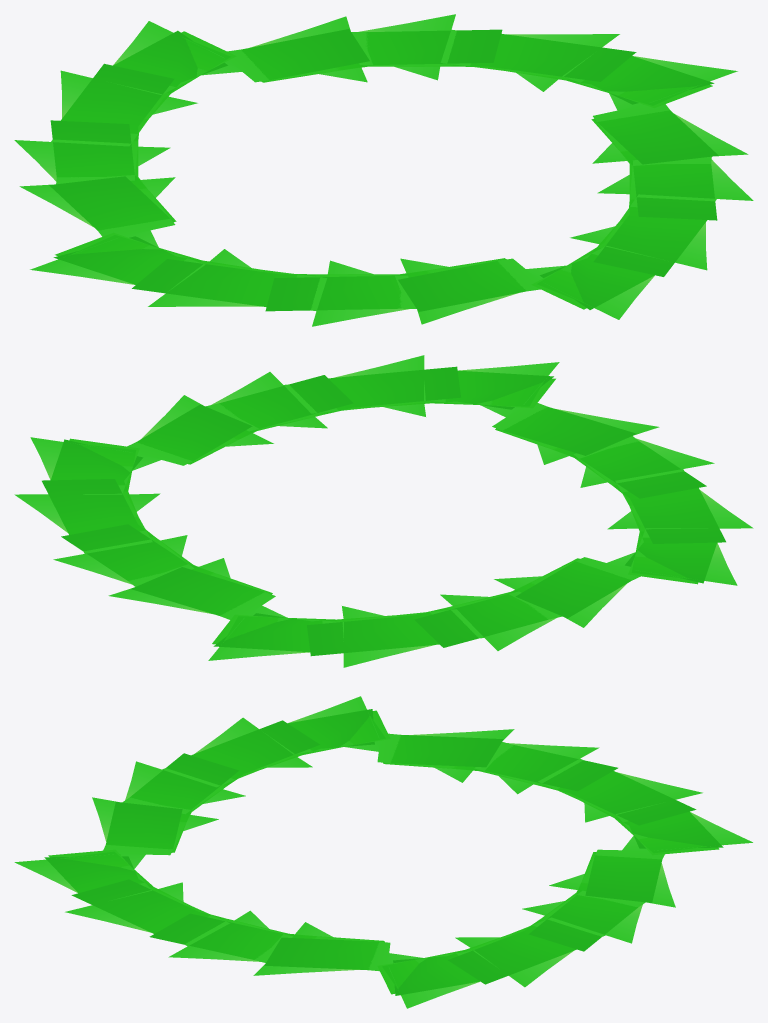
File: arrowAnimation06.fbx
3 renders of one model, top to bottom at view 1: azimuth 30°, elevation 25°; view 2: azimuth 150°, elevation 25°; view 3: azimuth 270°, elevation 25°, orthographic. The views are drawn at different scales.
Visible parts, largest first — view 1: frame5, frame6, frame4, frame7, frame3, frame2, frame1; view 2: frame5, frame6, frame4, frame7, frame3, frame2, frame1; view 3: frame5, frame6, frame4, frame7, frame3, frame2, frame1.
Boxes of the visible parts, <box> form: frame5: <box>60,33,707,306</box>; frame6: <box>50,29,717,311</box>; frame4: <box>19,16,748,324</box>; frame7: <box>49,29,718,311</box>; frame3: <box>14,14,753,326</box>; frame2: <box>55,31,712,309</box>; frame1: <box>30,21,737,319</box>; frame5: <box>42,366,725,656</box>; frame6: <box>61,375,706,647</box>; frame4: <box>51,370,716,652</box>; frame7: <box>131,404,636,618</box>; frame3: <box>53,372,714,650</box>; frame2: <box>14,355,753,667</box>; frame1: <box>30,362,737,660</box>; frame5: <box>71,720,696,984</box>; frame6: <box>130,745,637,959</box>; frame4: <box>44,709,723,995</box>; frame7: <box>106,735,662,970</box>; frame3: <box>61,716,706,988</box>; frame2: <box>48,710,719,994</box>; frame1: <box>14,696,752,1008</box>.
Size of the model in its own units: 0.0322 by 1.81e-06 by 0.0322.
